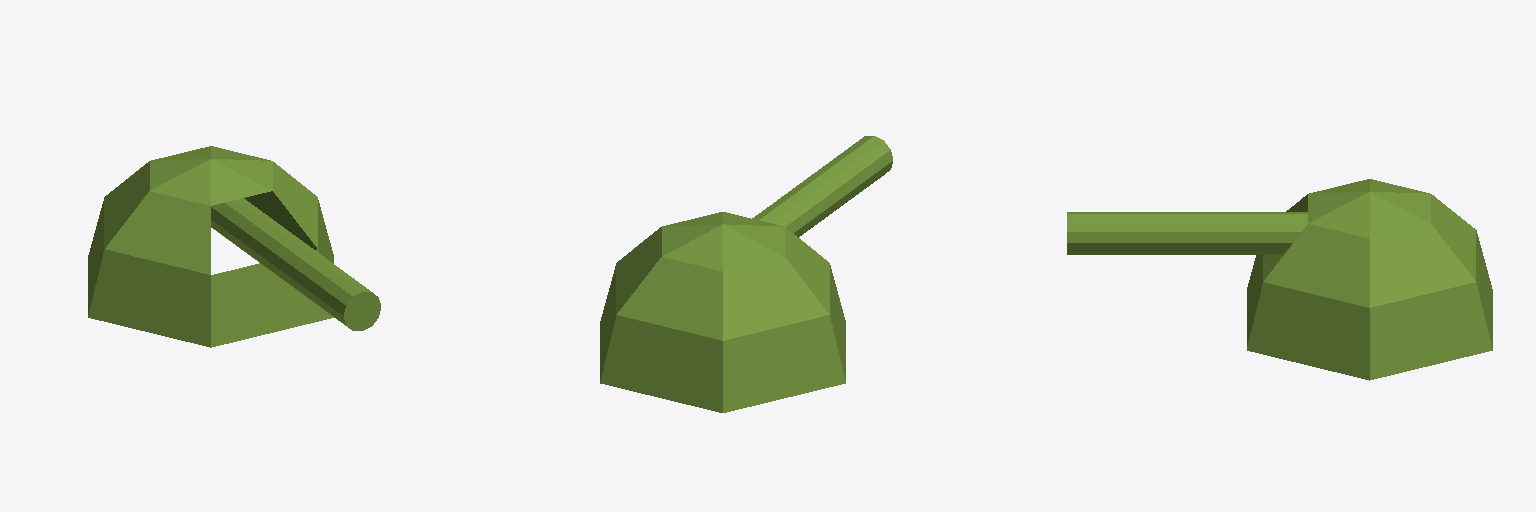
The model's file is turret.obj.
The picture shows the model from 3 angles: view 1: azimuth 30°, elevation 25°; view 2: azimuth 150°, elevation 25°; view 3: azimuth 270°, elevation 25°; orthographic projection.
Visible parts, largest first — view 1: turret.001_Sphere.000; view 2: turret.001_Sphere.000; view 3: turret.001_Sphere.000.
Part boxes in pixels (left/top/right/bottom): turret.001_Sphere.000: left=88, top=146, right=380, bottom=347; turret.001_Sphere.000: left=600, top=136, right=892, bottom=412; turret.001_Sphere.000: left=1067, top=179, right=1492, bottom=380.
Size of the model in its own units: 0.9067 by 0.4534 by 1.36.